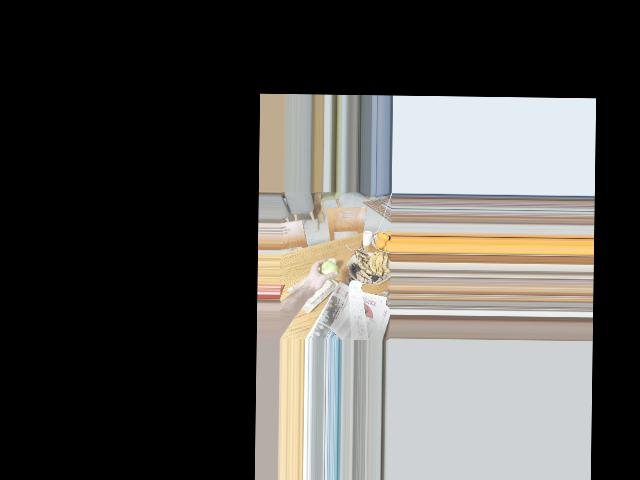apple: (315, 261, 337, 285)
